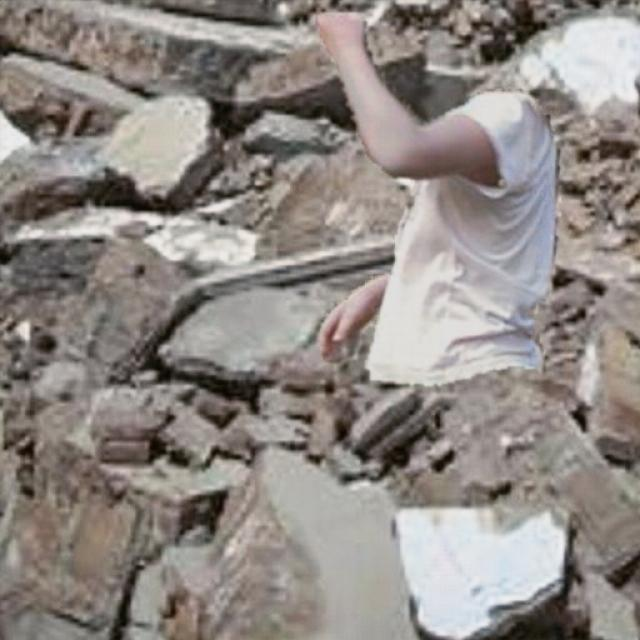Person in Rubble: (318, 12, 560, 386)
